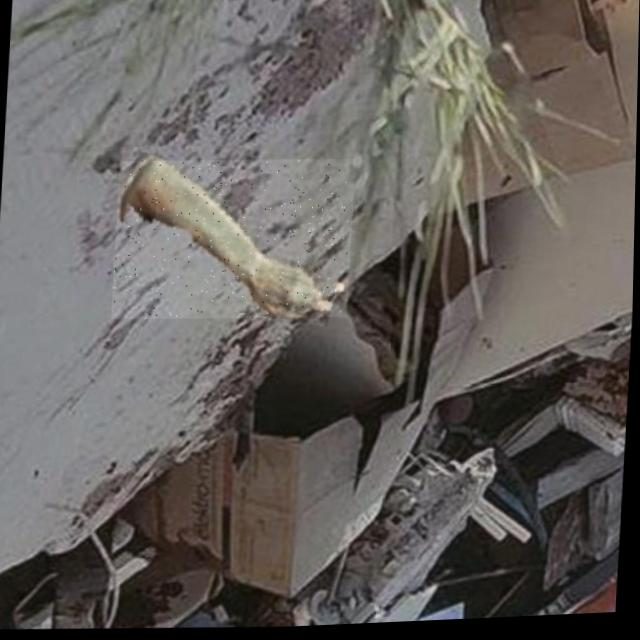Person in Rubble: (111, 153, 355, 328)
